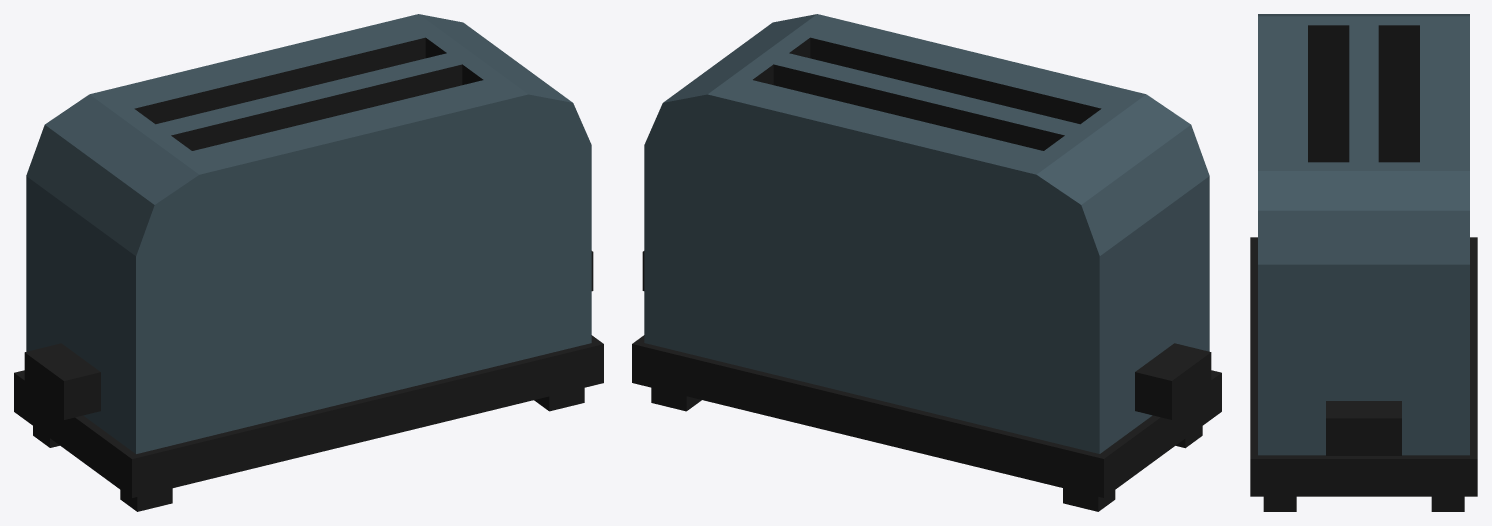
The model's file is Toaster_01.obj.
3 views of the same model, side by side, from view 1: azimuth 30°, elevation 25°; view 2: azimuth 150°, elevation 25°; view 3: azimuth 270°, elevation 25° (orthographic). The views are drawn at different scales.
Parts seen in each view (by area): view 1: toaster_Cube; view 2: toaster_Cube; view 3: toaster_Cube.
Boxes of the visible parts, x1=… form: toaster_Cube: x1=14, y1=14, x2=603, y2=511; toaster_Cube: x1=632, y1=14, x2=1221, y2=511; toaster_Cube: x1=1250, y1=14, x2=1477, y2=511.
Bounding box in the file's own units: 17.03 × 9.99 × 6.57.
